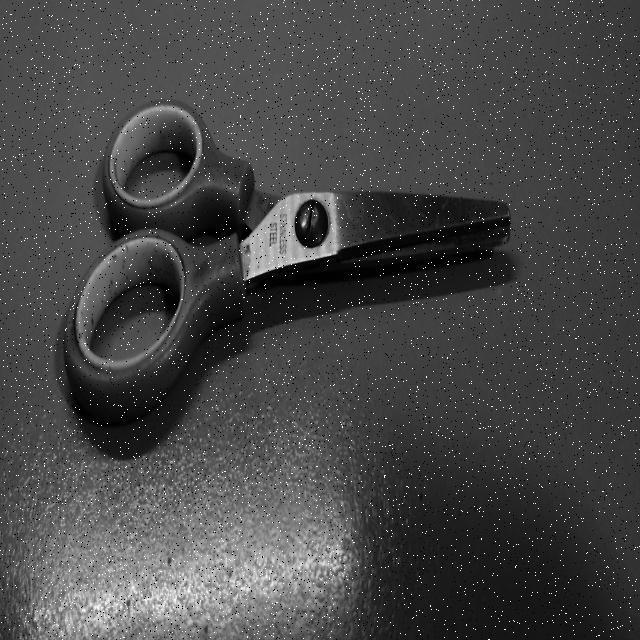scissors: (58, 91, 516, 437)
